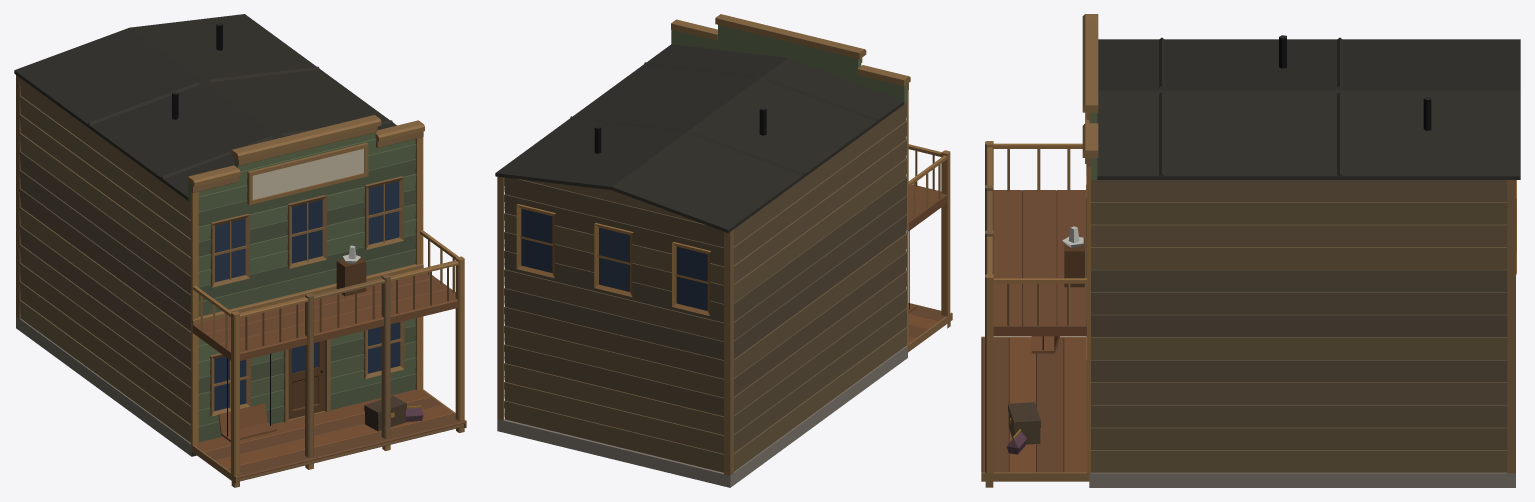
File: hotel.glb
3 renders of one model, left to right at view 1: azimuth 30°, elevation 25°; view 2: azimuth 150°, elevation 25°; view 3: azimuth 270°, elevation 25°, orthographic. The views are drawn at different scales.
Parts seen in each view (by area): view 1: hotel-mesh; view 2: hotel-mesh; view 3: hotel-mesh.
Boxes of the visible parts, x1,y1,x2,y2 form: hotel-mesh: [14, 14, 466, 487]; hotel-mesh: [495, 14, 952, 487]; hotel-mesh: [981, 14, 1520, 487].
Bounding box in the file's own units: 6 × 7.3 × 10.
